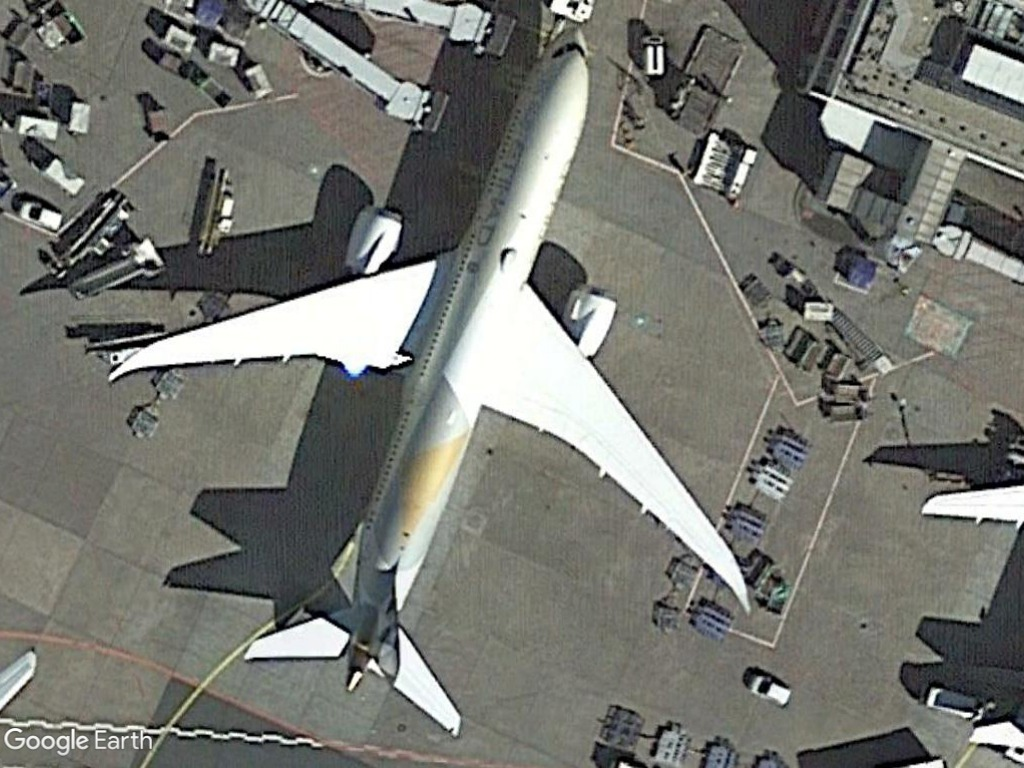airliner: (103, 22, 755, 740)
stairtruck: (66, 232, 170, 306)
van: (15, 194, 66, 236), (745, 673, 796, 708)
